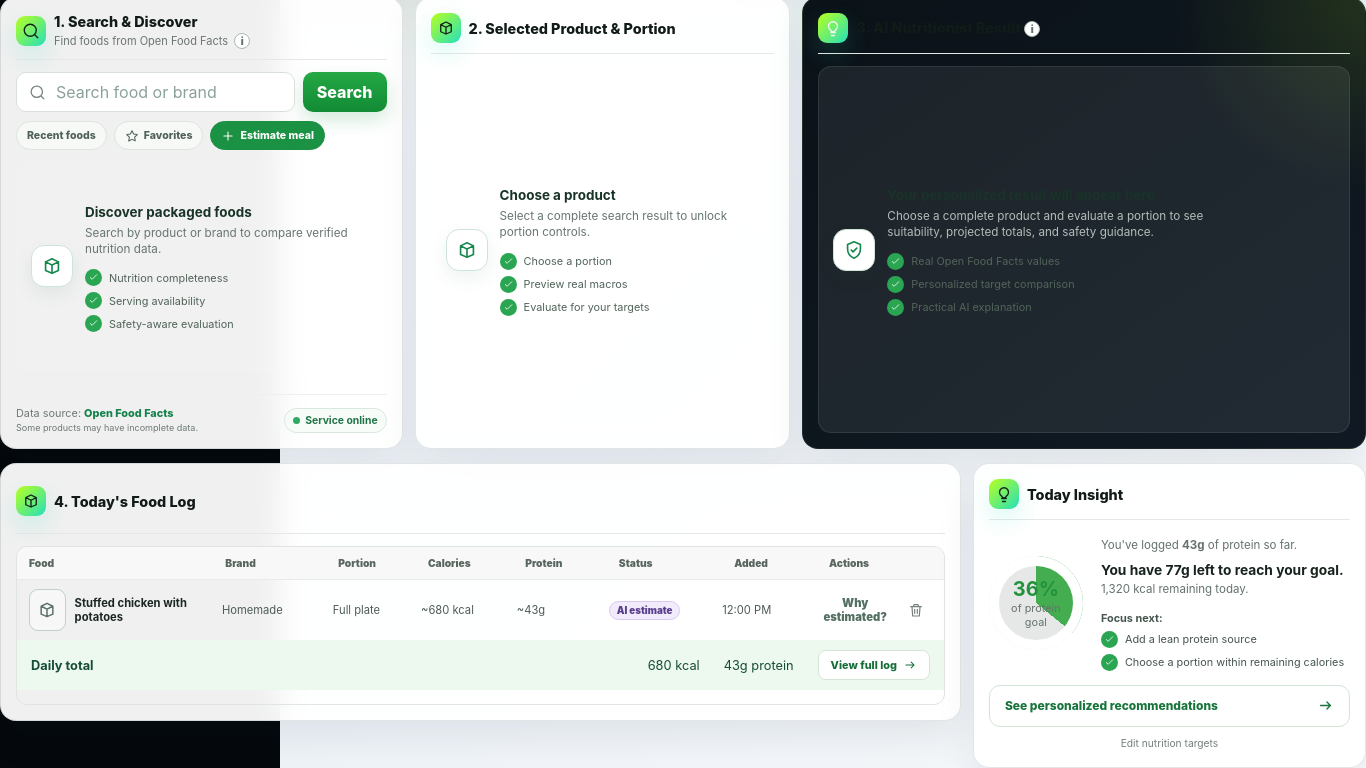
keeps estimated-meal explanations collapsed until requested
The width and height of the screenshot is (1366, 768).
(page scrolled)
Check: the text "Estimated from the described homemade meal." is not shown
Click the button "Why estimated?": point(855, 610) [815,590,895,630]
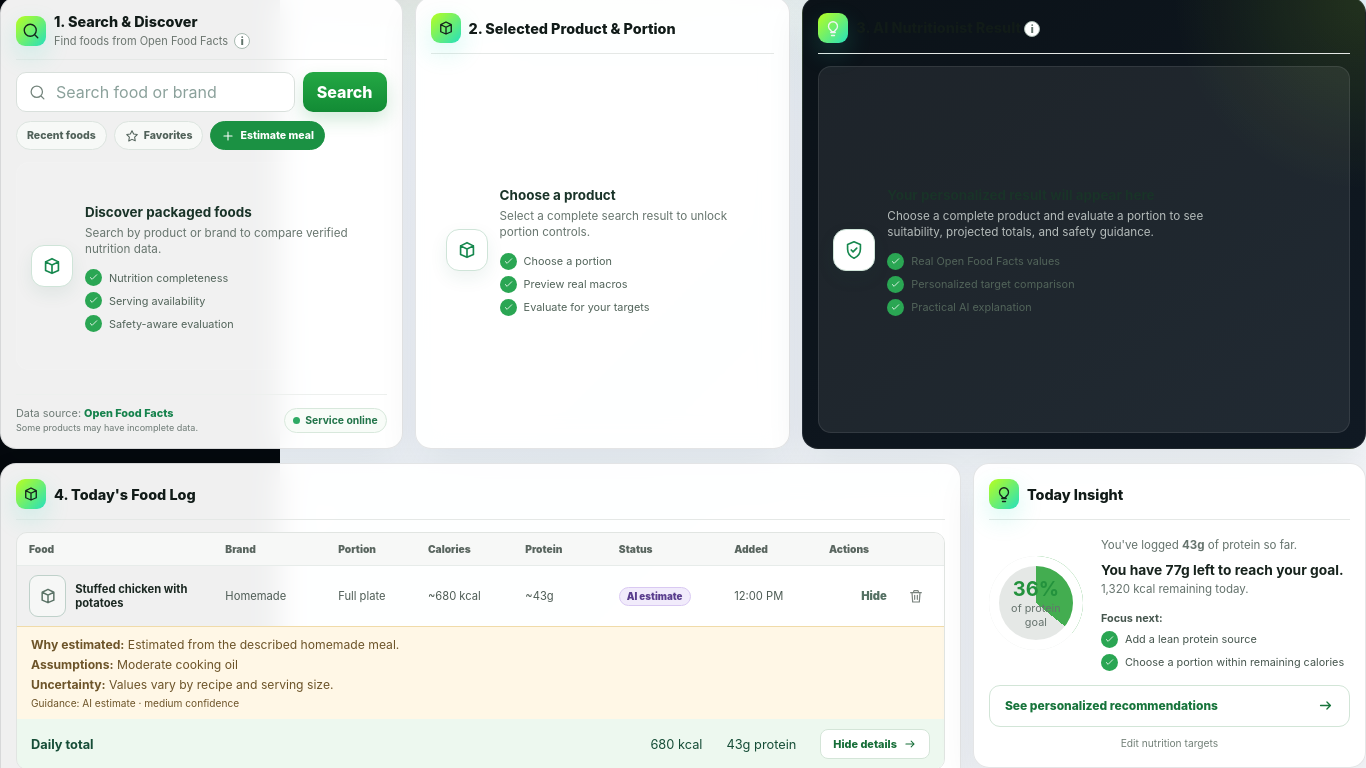
Check: the text "Estimated from the described homemade meal." is shown, box [128,637,399,652]
Check: the text "Assumptions: Moderate cooking oil" is shown, box [31,657,238,672]
